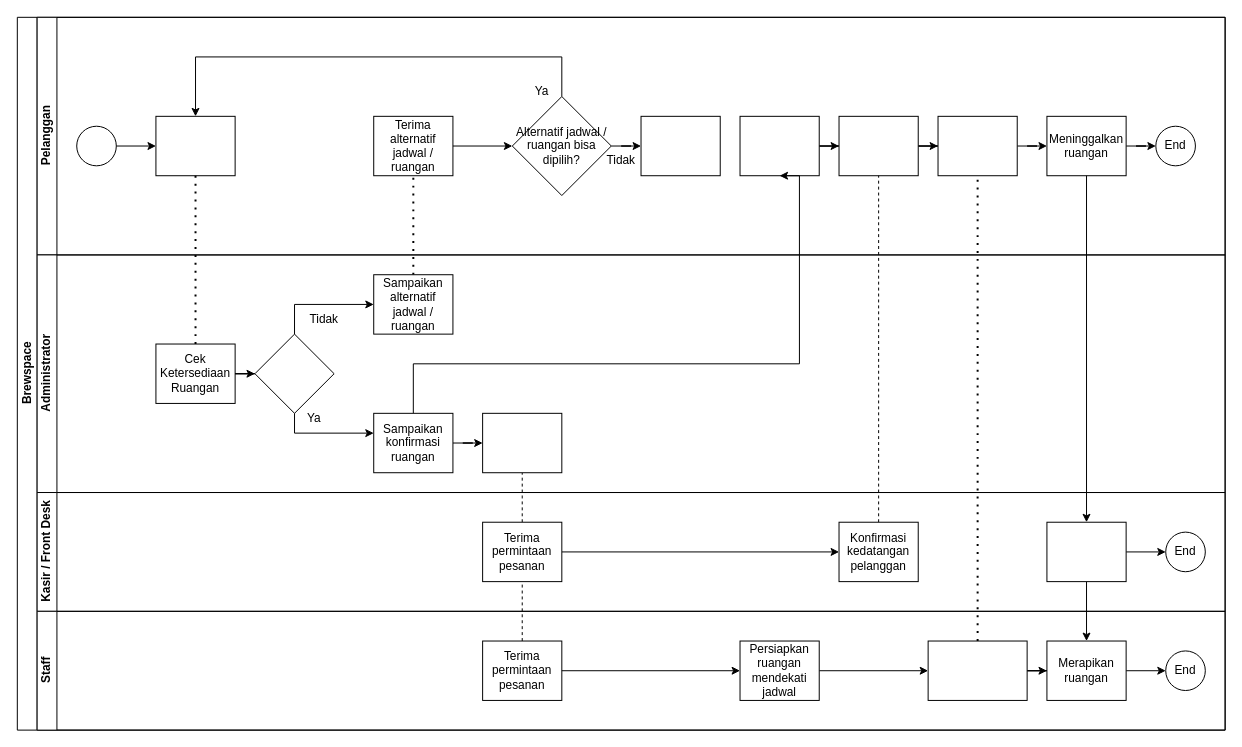
The diagram is 1242 pixels wide and 747 high, and some of its shapes have lost their labels. Each missing label, with the centre of its shape:
Batalkan pesanan: the point at 680,145
Datang ke ruangan pada jadwal yang ditentukan: the point at 878,145
Konfirmasi keberangkatan pelanggan: the point at 1086,551
Menggunakan ruangan: the point at 977,145
Pesan Jadwal dan Ruangan: the point at 195,145
Ruangan tersedia?: the point at 294,373
Sampaikan permintaan pesanan: the point at 522,442
Standby apabila pelanggan request layanan: the point at 977,670
Start: the point at 96,145
Terima konfirmasi ruangan: the point at 779,145
